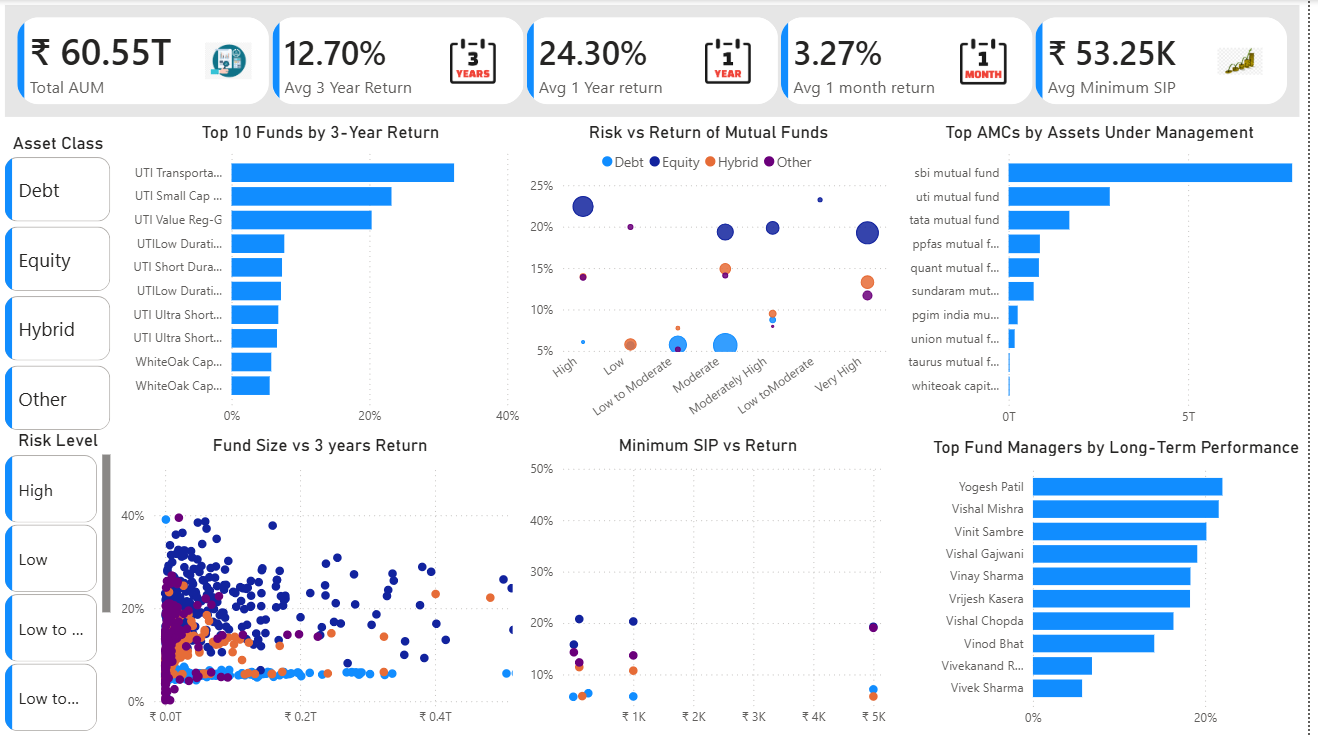

The page's visual inventory and layout, read from the dashboard file:
{"tool":"powerbi","page":{"name":"Page 1","canvas":[1280,720],"ordinal":0},"visuals":[{"type":"cardVisual","fields":{"Data":["Sum(Mutual_fund Data.AUM)","Avg(Mutual_fund Data.3 Year Return)","Avg(Mutual_fund Data.1 Year return)","Avg(Mutual_fund Data.1 month return)","Avg(Mutual_fund Data.Minimum investment)"]},"box":[0,0,1280.3,119.4],"z":0},{"type":"image","box":[200.5,36.7,45.2,45.2],"z":1000},{"type":"image","box":[440.2,37.9,45.2,44],"z":2000},{"type":"image","box":[689.7,37.9,45.2,44],"z":3000},{"type":"image","box":[939.1,37.9,45.2,45.2],"z":4000},{"type":"image","box":[1191,37.9,44,44],"z":5000},{"type":"advancedSlicerVisual","title":"Asset Class","fields":{"Values":["Mutual_fund Data.Category"]},"box":[0,129.6,113.7,297.1],"z":6000},{"type":"barChart","title":"Top 10 Funds by 3-Year Return","fields":{"Category":["Mutual_fund Data.Fund Name"],"Y":["Sum(Mutual_fund Data.3 Year Return)"]},"box":[113.4,118.8,399.7,306.6],"z":7000},{"type":"scatterChart","title":"Risk vs Return of Mutual Funds","fields":{"X":["Mutual_fund Data.Risk"],"Y":["Avg(Mutual_fund Data.3 Year Return)"],"Size":["Sum(Mutual_fund Data.AUM)"],"Series":["Mutual_fund Data.Category"]},"box":[513.2,118.8,359.2,306.6],"z":8000},{"type":"barChart","title":"Top AMCs by Assets Under Management","fields":{"Category":["Mutual_fund Data.AMC"],"Y":["Mutual_fund Data.Total AUM"]},"box":[872,119,408,307],"z":9000},{"type":"barChart","title":"Top Fund Managers by Long-Term Performance","fields":{"Category":["Mutual_fund Data.Fund Manager"],"Y":["Avg(Mutual_fund Data.3 Year Return)"]},"box":[903.7,426.8,376.6,293.5],"z":10002},{"type":"advancedSlicerVisual","title":"Risk Level","fields":{"Values":["Mutual_fund Data.Risk"]},"box":[0,420.7,113.7,299.6],"z":10003},{"type":"lineChart","title":"Minimum SIP vs Return","fields":{"Category":["Mutual_fund Data.Minimum investment"],"Y":["Avg(Mutual_fund Data.3 Year Return)"],"Series":["Mutual_fund Data.Category"]},"box":[514,426,358,294],"z":10004},{"type":"lineChart","title":"Fund Size vs 3 years Return","fields":{"Category":["Mutual_fund Data.AUM"],"Y":["Avg(Mutual_fund Data.3 Year Return)"],"Series":["Mutual_fund Data.Category"]},"box":[114,426,399,294],"z":10005}]}

Visuals, with their boxes in screenshot pixels (x1, y1, x2, y2), scaled from the page's 1280x720 canvas onto the 1318x736 screenshot:
cardVisual - Sum(Mutual_fund Data.AUM) x Avg(Mutual_fund Data.3 Year Return): 0,0,1317,122
image: 206,38,253,84
image: 453,39,500,84
image: 710,39,757,84
image: 967,39,1014,85
image: 1226,39,1272,84
"Asset Class" advancedSlicerVisual: 0,132,117,436
"Top 10 Funds by 3-Year Return" barChart: 117,121,528,435
"Risk vs Return of Mutual Funds" scatterChart: 528,121,898,435
"Top AMCs by Assets Under Management" barChart: 898,122,1317,435
"Top Fund Managers by Long-Term Performance" barChart: 931,436,1317,735
"Risk Level" advancedSlicerVisual: 0,430,117,735
"Minimum SIP vs Return" lineChart: 529,435,898,735
"Fund Size vs 3 years Return" lineChart: 117,435,528,735
